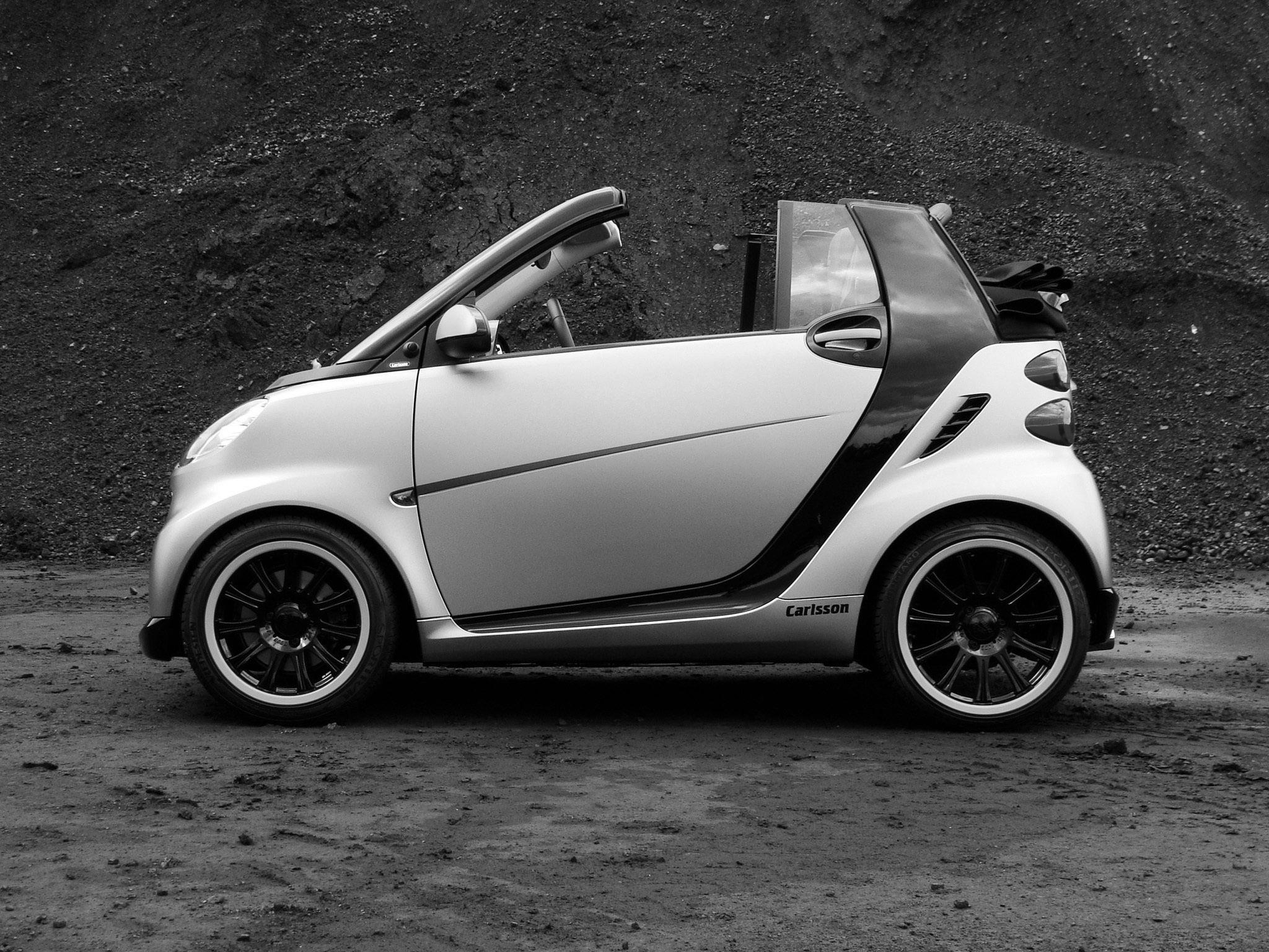car: (134, 174, 1123, 731)
